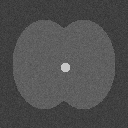nodule: (59, 60, 70, 73)
